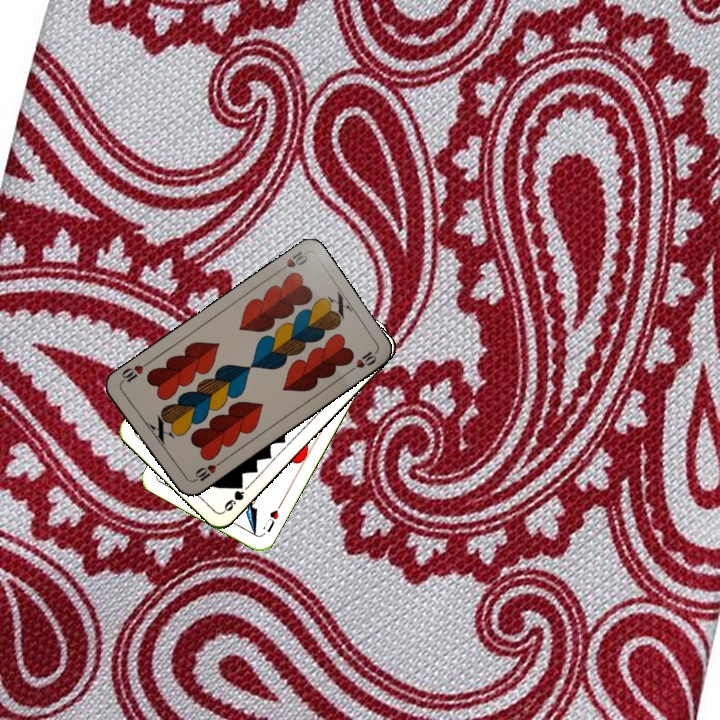G9: (219, 478, 247, 515)
H10: (273, 247, 310, 276), (188, 457, 224, 485)
HU: (259, 500, 284, 535)
